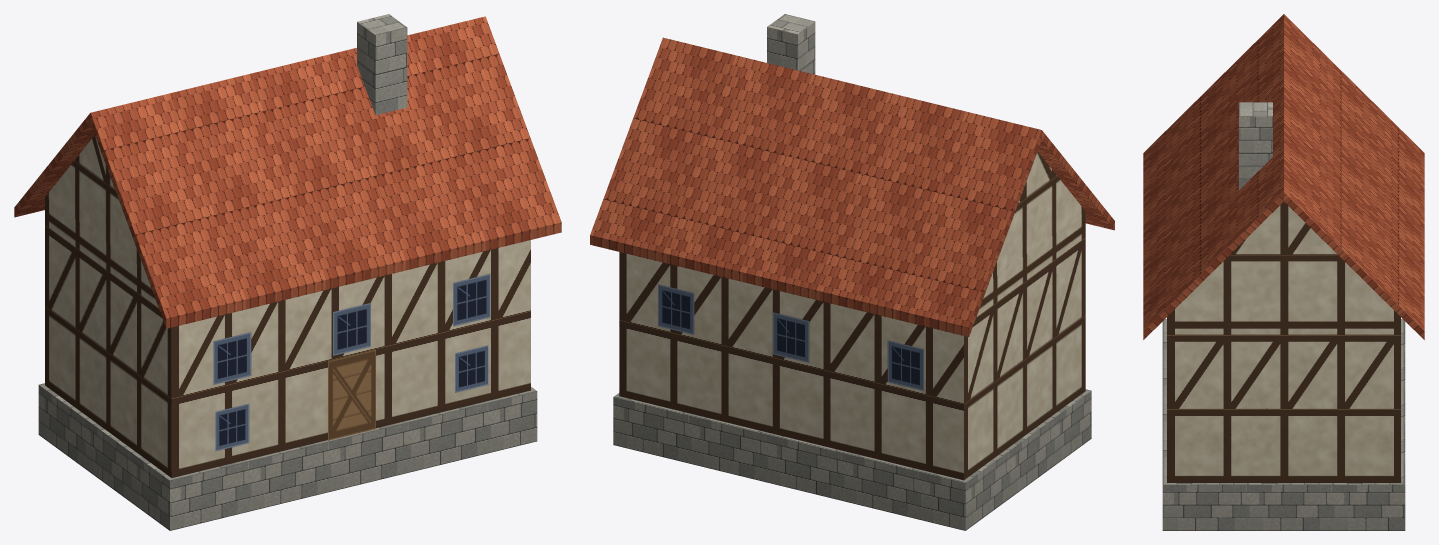
The model's file is house_b.glb.
3 renders of one model, left to right at view 1: azimuth 30°, elevation 25°; view 2: azimuth 150°, elevation 25°; view 3: azimuth 270°, elevation 25°, orthographic. The views are drawn at different scales.
Parts seen in each view (by area): view 1: house_b; view 2: house_b; view 3: house_b.
Boxes of the visible parts, x1,y1,x2,y2 form: house_b: (14,14,561,530); house_b: (590,14,1114,530); house_b: (1143,14,1424,530).
Bounding box in the file's own units: 9.9 × 9.7 × 6.6.
5 materials, 5 textured.
